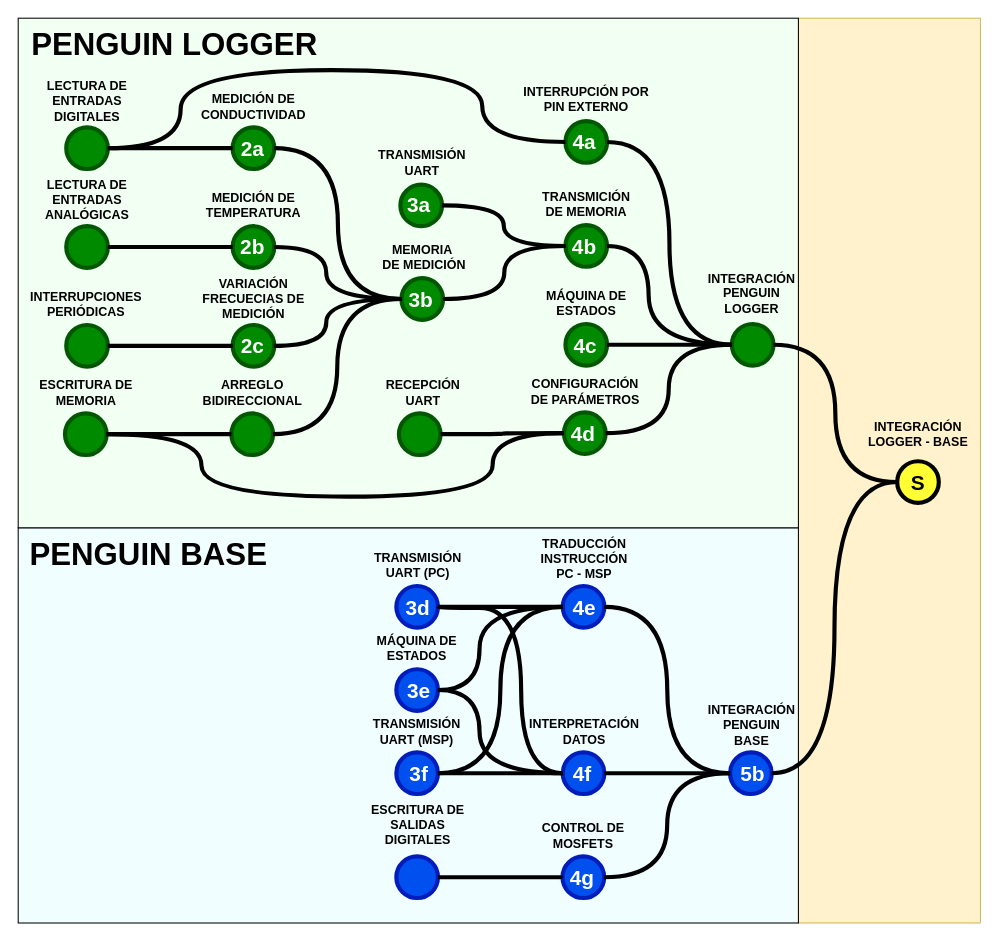
Image size: 999x941. Some labels were removed from this diagram. The shapes that lost their labels are listed below. From the top down, each one's centre as x and y in pixels, then its label:
At point 86,148: "1a".
At point 86,246: "1b".
At point 86,345: "1c".
At point 752,344: "5a".
At point 85,434: "1d".
At point 252,434: "2d".
At point 419,434: "3c".
At point 417,877: "3g".
